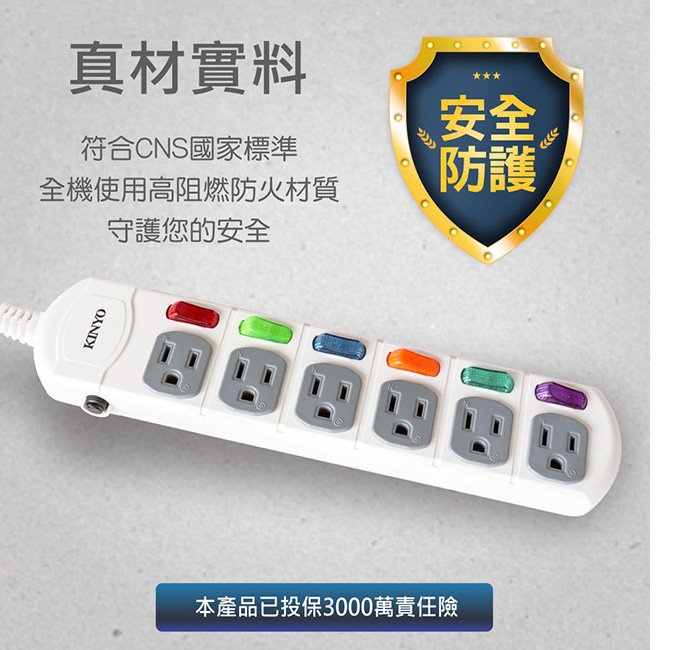socket: (1, 276, 623, 517)
